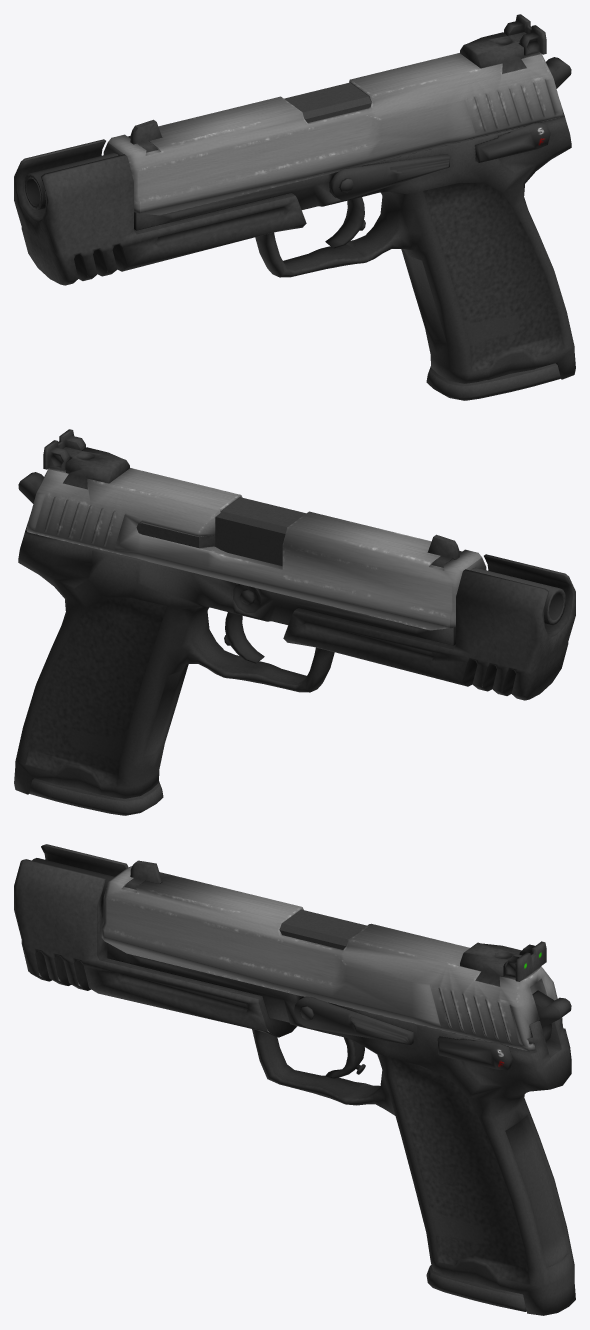
Rendered from uspnewfinal.fbx.
The picture shows the model from 3 angles, top to bottom: view 1: azimuth 30°, elevation 25°; view 2: azimuth 150°, elevation 25°; view 3: azimuth 330°, elevation 25°; orthographic projection.
Visible parts, largest first — view 1: Cube.011, Cube.012, Cube.018, Cube.015; view 2: Cube.011, Cube.012, Cube.018, Cube.015; view 3: Cube.011, Cube.012, Cube.018, Cylinder.009, Cube.015.
Boxes of the visible parts, x1,y1,x2,y2 form: Cube.011: [14, 82, 575, 383]; Cube.012: [103, 14, 563, 215]; Cube.018: [426, 363, 560, 400]; Cube.015: [325, 197, 365, 248]; Cube.011: [14, 497, 575, 798]; Cube.012: [26, 429, 486, 630]; Cube.018: [29, 524, 174, 815]; Cube.015: [224, 612, 264, 663]; Cube.011: [14, 844, 575, 1315]; Cube.012: [101, 860, 562, 1051]; Cube.018: [426, 1265, 526, 1311]; Cylinder.009: [532, 990, 571, 1042]; Cube.015: [325, 1037, 365, 1078].
Size of the model in its own units: 542 by 334 by 77.53.
